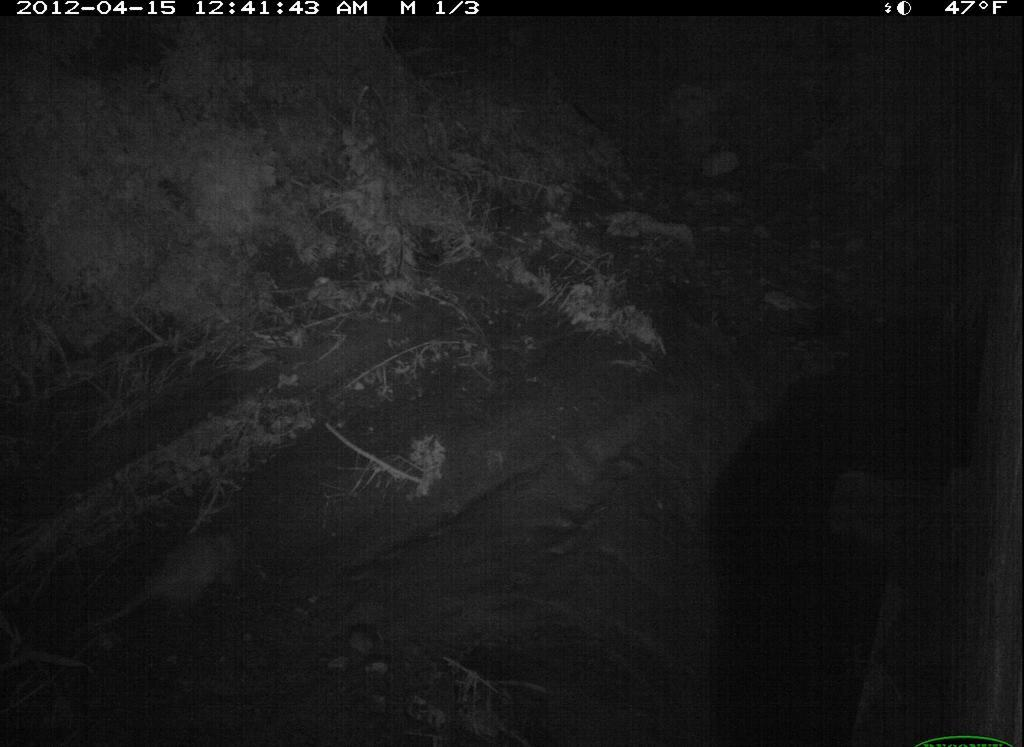opossum: (57, 504, 308, 656)
